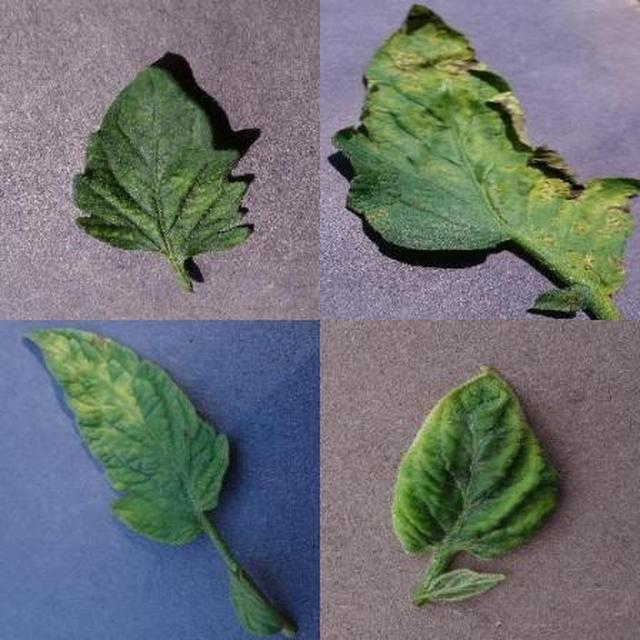Mosaic Virus Leaf: (184, 231, 640, 640)
